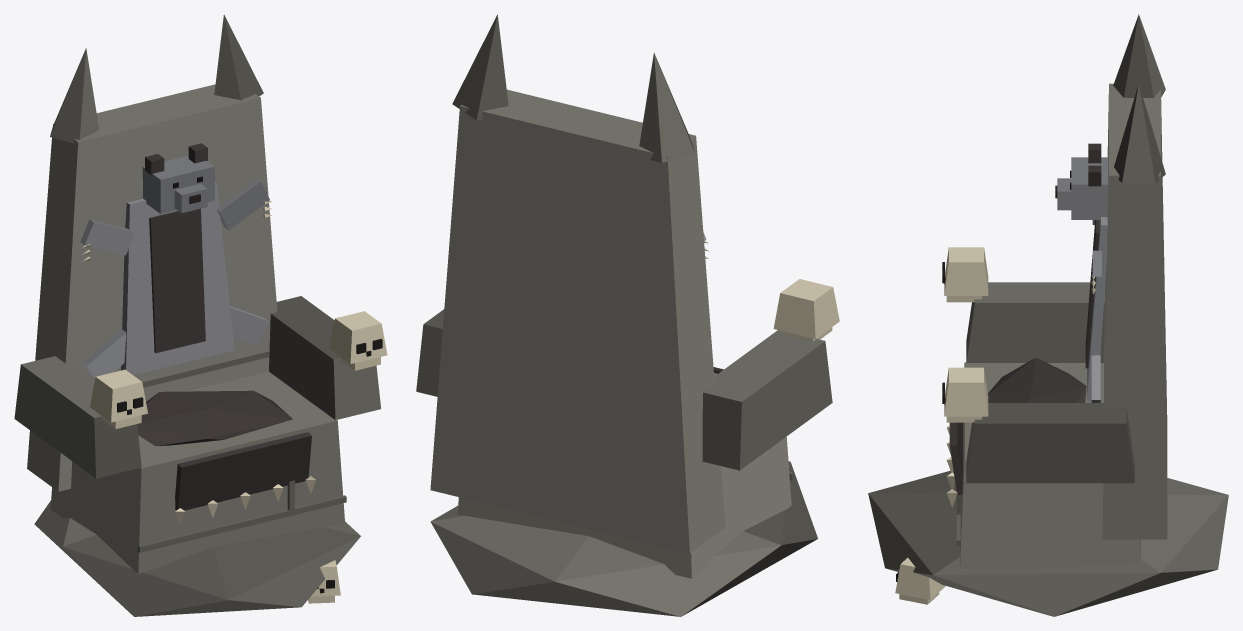
Rendered from giant_throne.glb.
The picture shows the model from 3 angles, left to right: view 1: azimuth 30°, elevation 25°; view 2: azimuth 150°, elevation 25°; view 3: azimuth 270°, elevation 25°; orthographic projection. The views are drawn at different scales.
Visible parts, largest first — view 1: giant_throne; view 2: giant_throne; view 3: giant_throne.
Boxes of the visible parts, <box> form: giant_throne: <box>14,14,387,616</box>; giant_throne: <box>416,14,839,616</box>; giant_throne: <box>868,14,1228,616</box>.
Size of the model in its own units: 2.62 by 4.41 by 2.78.
